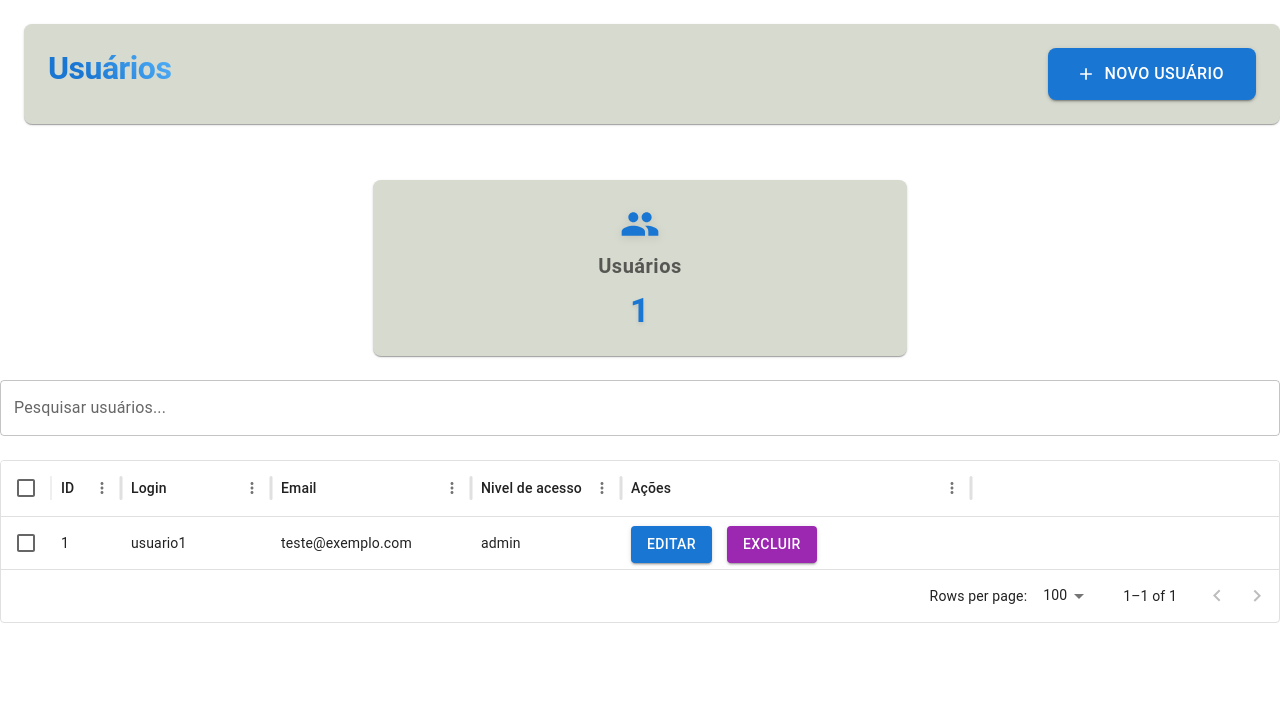
it: Componente Usuario › Exclui dado com confirmação
expect the table is shown: met, box [1,461,1279,569]
Click the button "Excluir" at (772, 544), box [727,526,817,562]
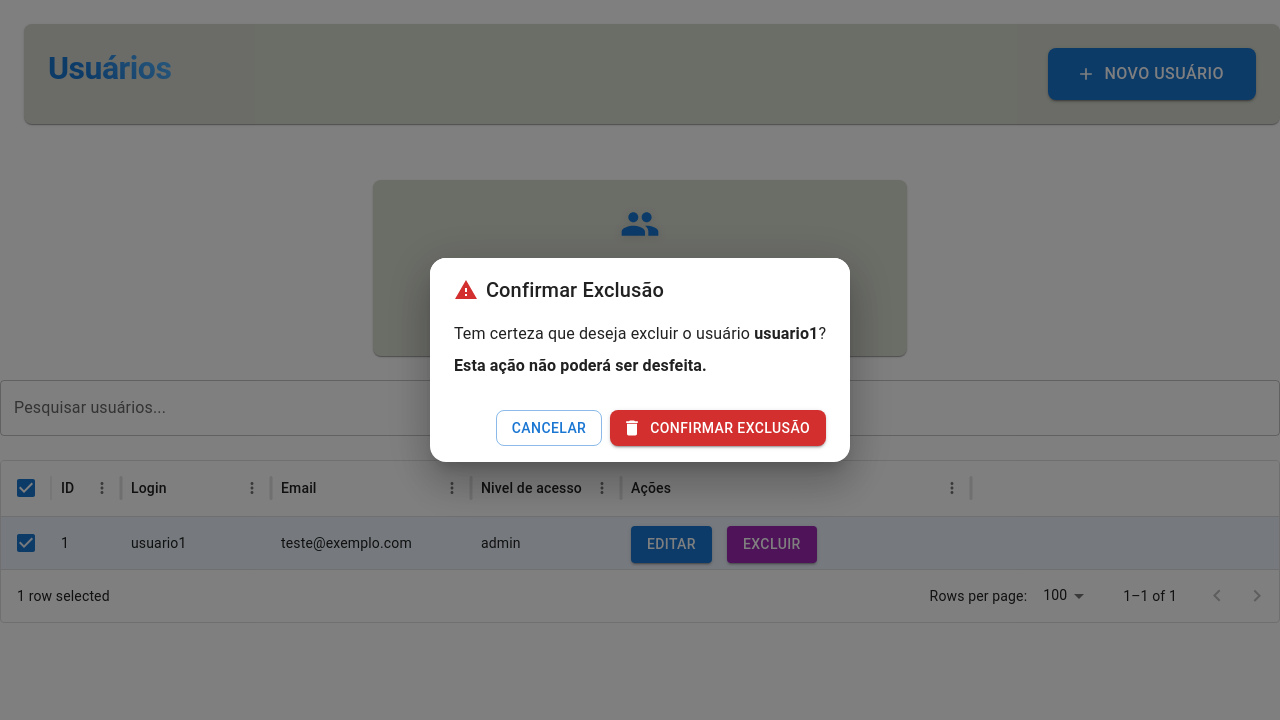
expect the dialog shows "Confirmar Exclusão": met, box [486,278,664,302]
expect the dialog shows "usuario1": met, box [754,324,818,343]
